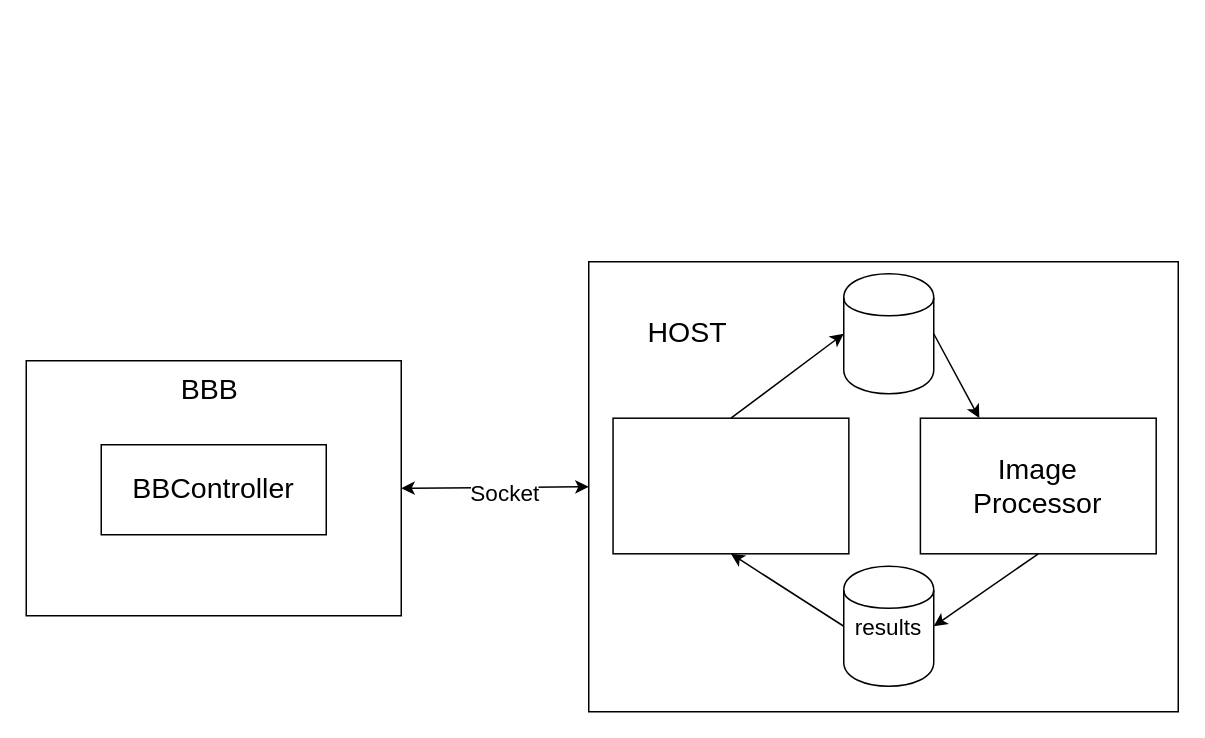
The diagram is 1205 pixels wide and 738 high, and some of its shapes have lost their labels. The shapes that lost their labels are listed below. From the top down, each one's box as (x1, y1, x2, y2) in pixels, then its label:
(842, 272, 934, 394): images
(612, 417, 849, 554): Gateway
